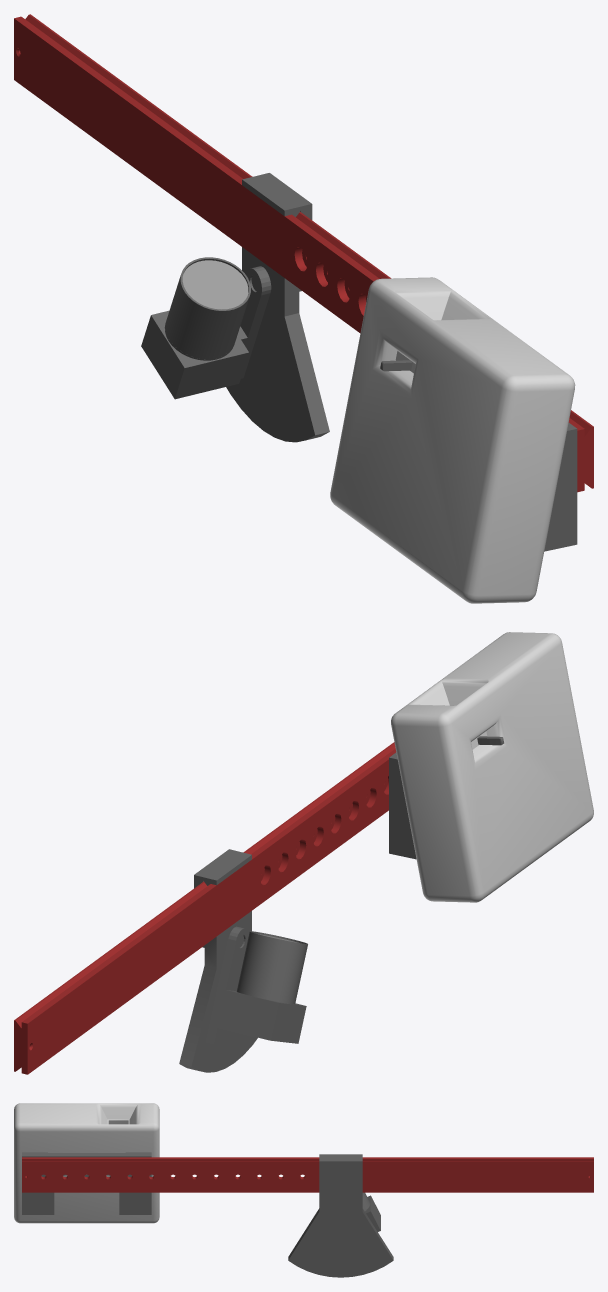
Rendered from sls_2.dae.
The picture shows the model from 3 angles, top to bottom: view 1: azimuth 30°, elevation 25°; view 2: azimuth 150°, elevation 25°; view 3: azimuth 270°, elevation 25°; orthographic projection. The views are drawn at different scales.
Visible parts, largest first — view 1: projector, ruler, camera_assembly, camera_lens, camera, projector_support, camera_support; view 2: projector, ruler, camera_assembly, camera_lens, camera, camera_support, projector_support; view 3: ruler, projector, camera_assembly, projector_support, camera.
Boxes of the visible parts, bbox=[...] form: projector: bbox=[330, 277, 575, 603]; ruler: bbox=[14, 14, 593, 492]; camera_assembly: bbox=[226, 173, 329, 442]; camera_lens: bbox=[165, 257, 250, 359]; camera: bbox=[141, 310, 248, 399]; projector_support: bbox=[544, 423, 577, 551]; camera_support: bbox=[237, 266, 271, 378]; projector: bbox=[391, 632, 593, 902]; ruler: bbox=[14, 742, 396, 1074]; camera_assembly: bbox=[179, 849, 257, 1072]; camera_lens: bbox=[237, 931, 307, 1002]; camera: bbox=[217, 990, 306, 1043]; camera_support: bbox=[206, 926, 248, 1045]; projector_support: bbox=[389, 752, 416, 859]; ruler: bbox=[22, 1157, 593, 1192]; projector: bbox=[14, 1103, 159, 1223]; camera_assembly: bbox=[288, 1154, 393, 1277]; projector_support: bbox=[22, 1152, 151, 1214]; camera: bbox=[364, 1195, 380, 1231].
Bounding box in the file's own units: 0.0782 × 0.5375 × 0.157.
